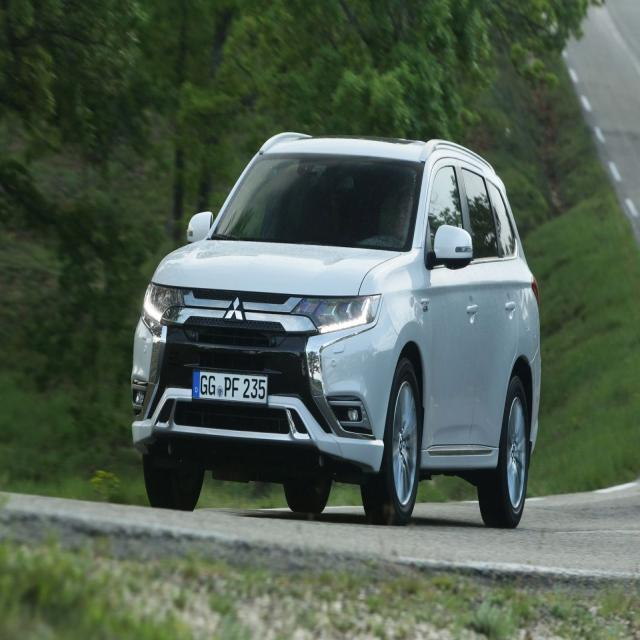light_vehicle: (130, 132, 542, 530)
